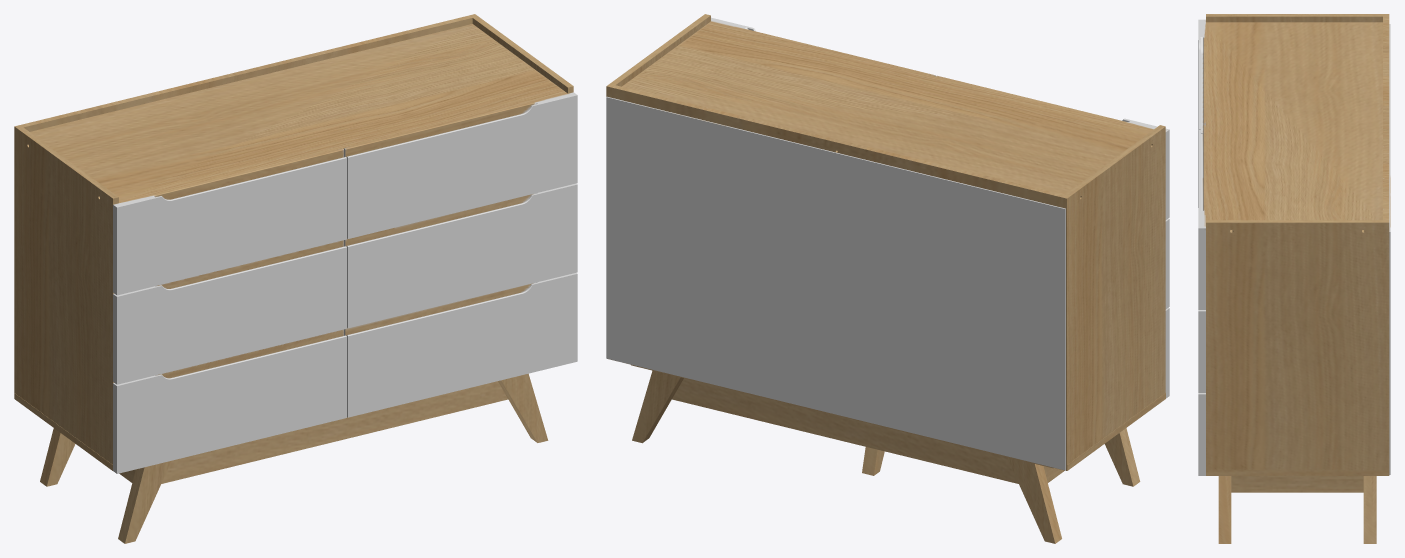
The picture shows the model from 3 angles, left to right: view 1: azimuth 30°, elevation 25°; view 2: azimuth 150°, elevation 25°; view 3: azimuth 270°, elevation 25°; orthographic projection. The views are drawn at different scales.
Visible parts, largest first — view 1: A716330-PISOSXXXPI; view 2: A716330-PISOSXXXPI; view 3: A716330-PISOSXXXPI.
Boxes of the visible parts, x1,y1,x2,y2 form: A716330-PISOSXXXPI: (14,14,577,543); A716330-PISOSXXXPI: (606,14,1169,543); A716330-PISOSXXXPI: (1198,14,1390,543).
Size of the model in its own units: 12 by 8.83 by 4.66.
Materials: 1 (1 with a texture image).
